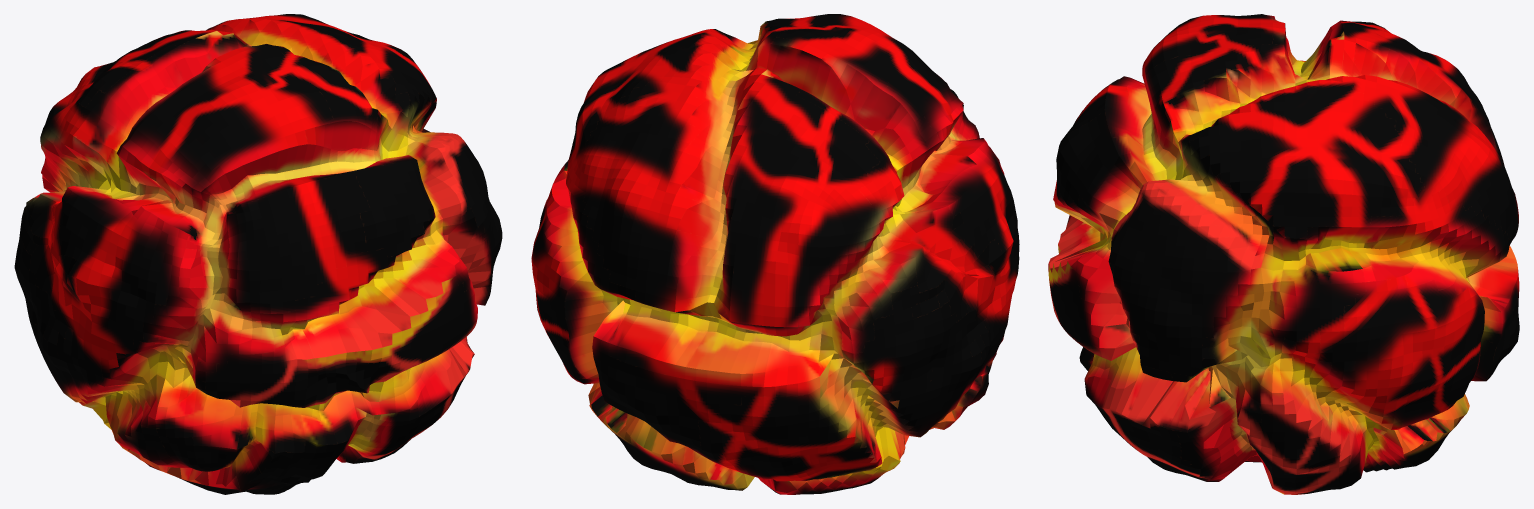
Rendered from magmaball.fbx.
The picture shows the model from 3 angles, left to right: view 1: azimuth 30°, elevation 25°; view 2: azimuth 150°, elevation 25°; view 3: azimuth 270°, elevation 25°; orthographic projection.
Parts seen in each view (by area): view 1: Cube; view 2: Cube; view 3: Cube.
Boxes of the visible parts, box(x1,y1,x2,y2) form: Cube: box(14, 14, 502, 494); Cube: box(531, 14, 1019, 494); Cube: box(1048, 14, 1519, 494).
Size of the model in its own units: 358 by 360 by 354.
1 material, 1 textured.
